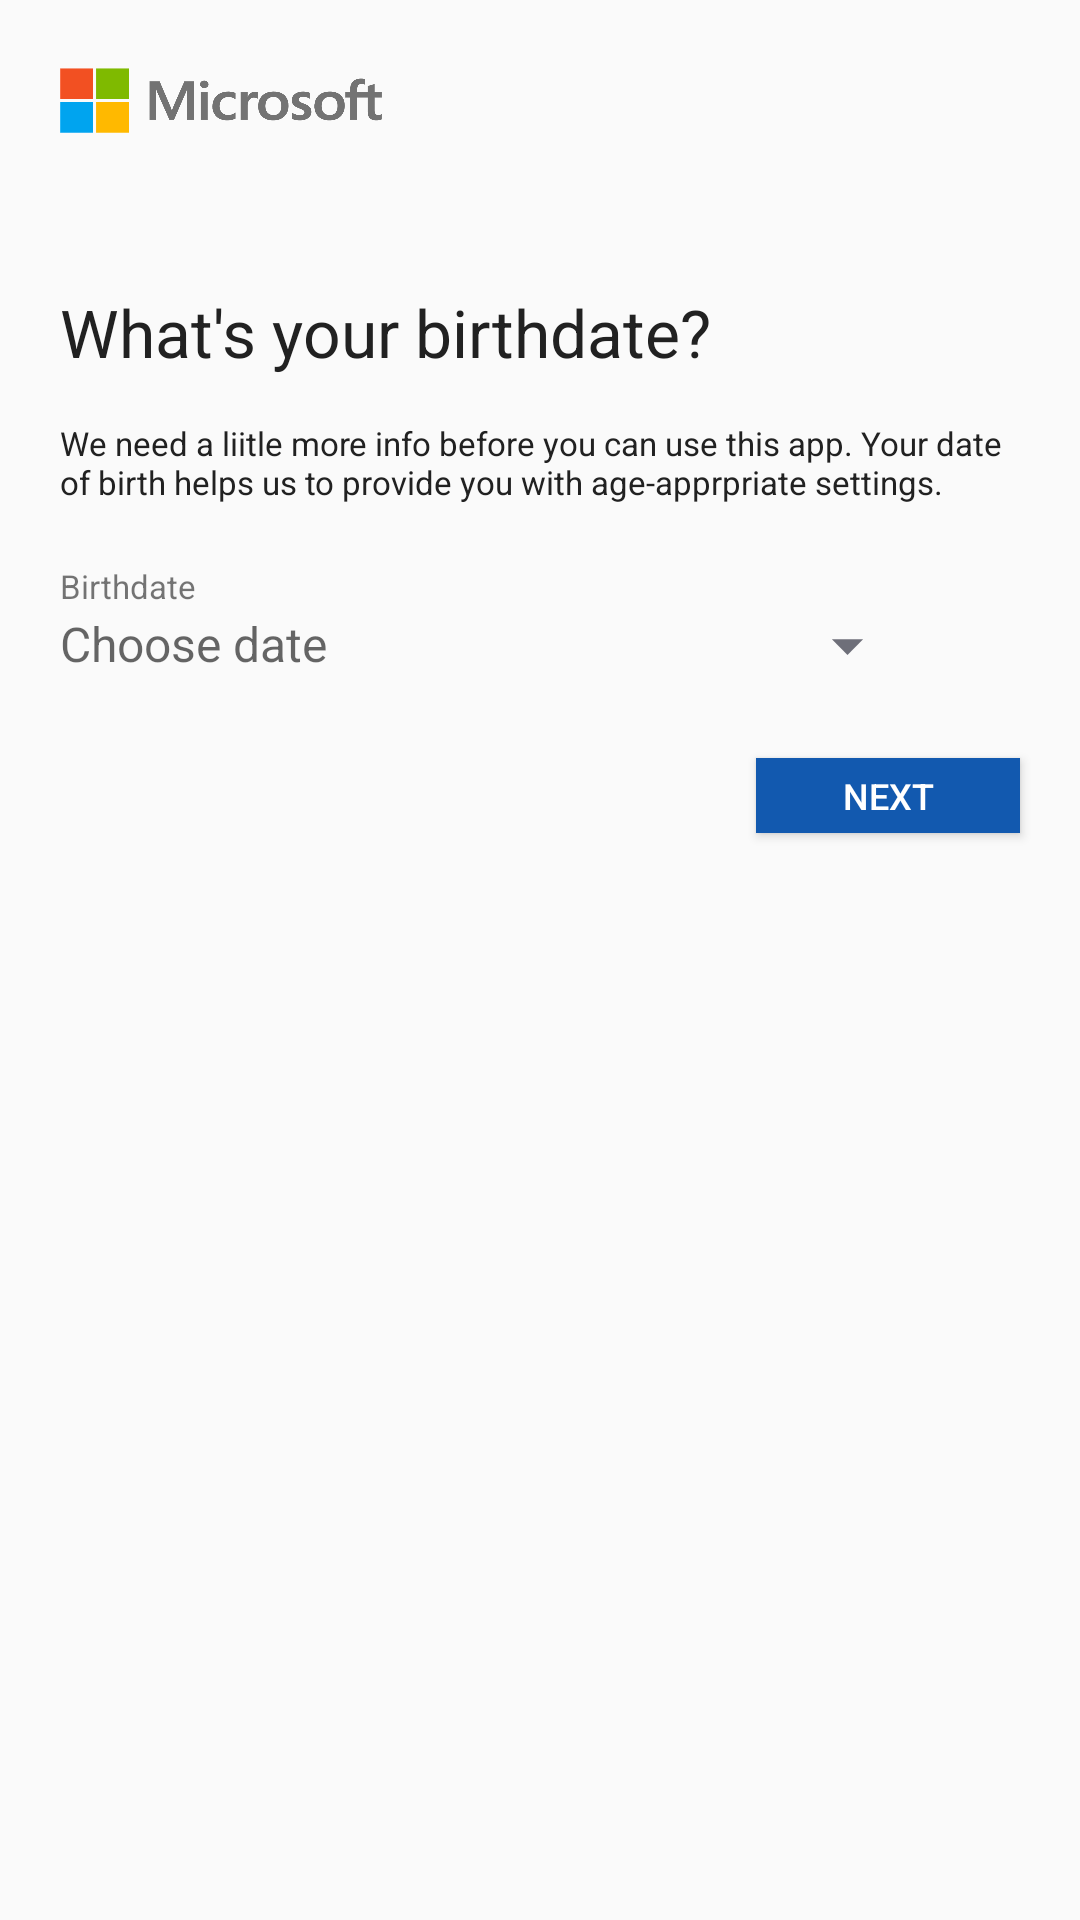

Locate icon controls on the screen. Image size 1080 × 1920, boxes as (x1, y1, x2, y2).
arrow drop down: (832, 639, 863, 655)
